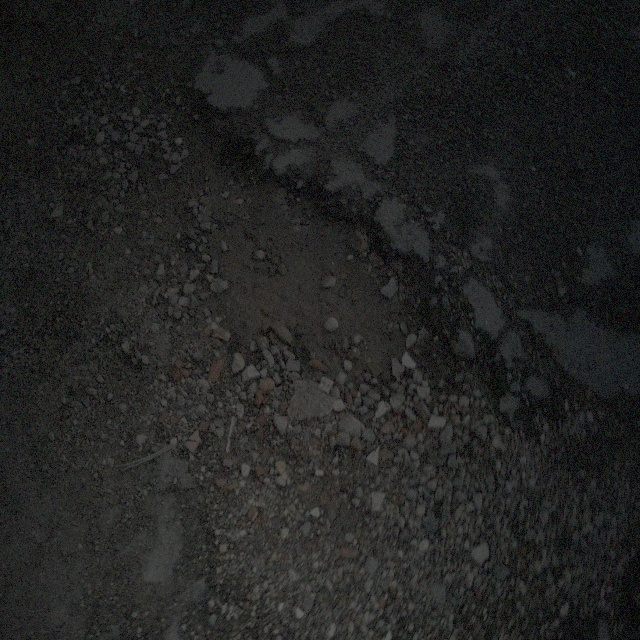pothole: (181, 111, 450, 427)
